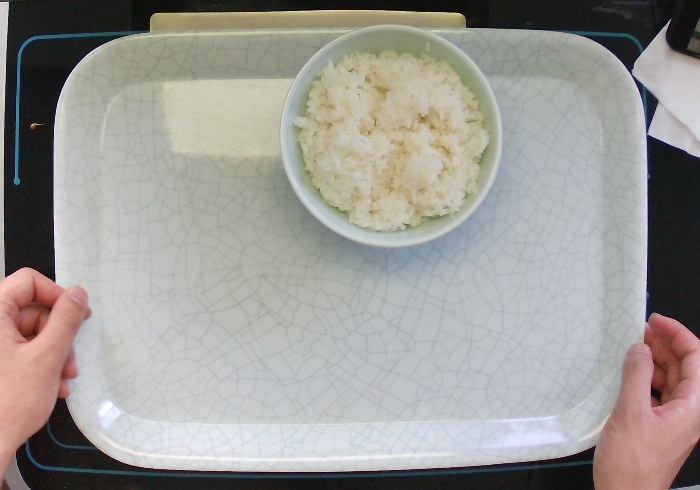JYsf-Fan_Wan: (271, 19, 514, 256)
